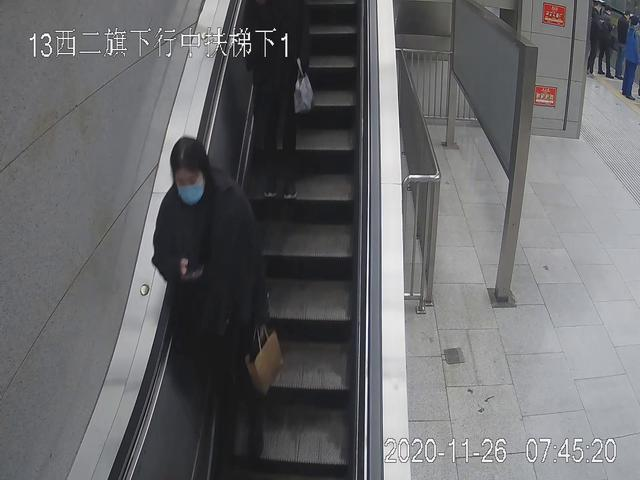person: (153, 137, 270, 464), (240, 1, 315, 198), (597, 9, 617, 79), (624, 16, 640, 98)
